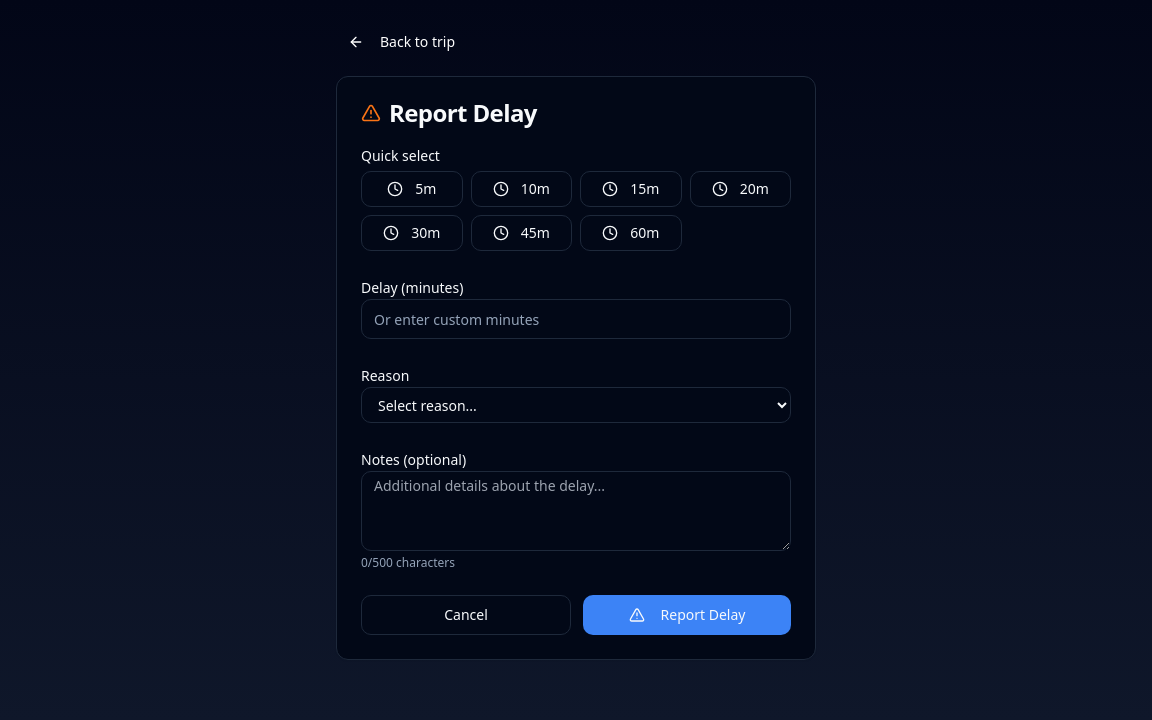
Scenario: DriverDelayPage › validation › shows error when submitting without minutes
The width and height of the screenshot is (1152, 720).
Select a reason but no minutes
Select "Traffic" in the dropdown labelled "Reason" at (576, 405), box top-left (361, 387), bottom-right (791, 423)
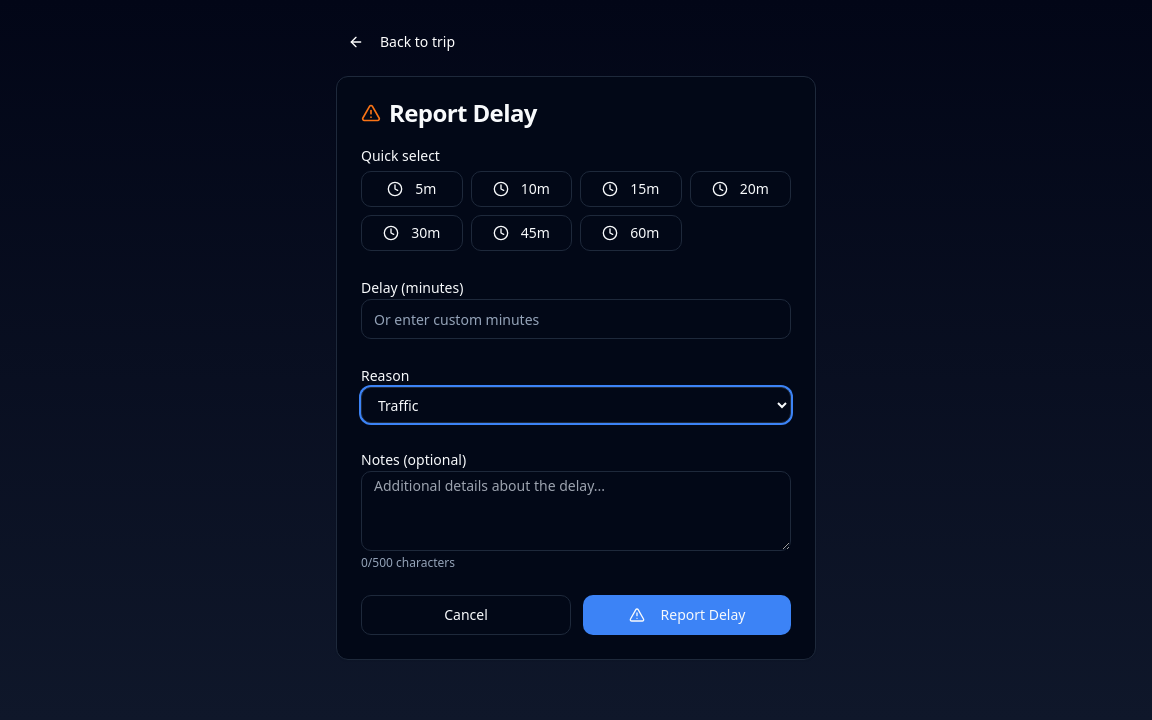
Click the button "Report Delay" at (687, 615), box top-left (583, 595), bottom-right (791, 635)
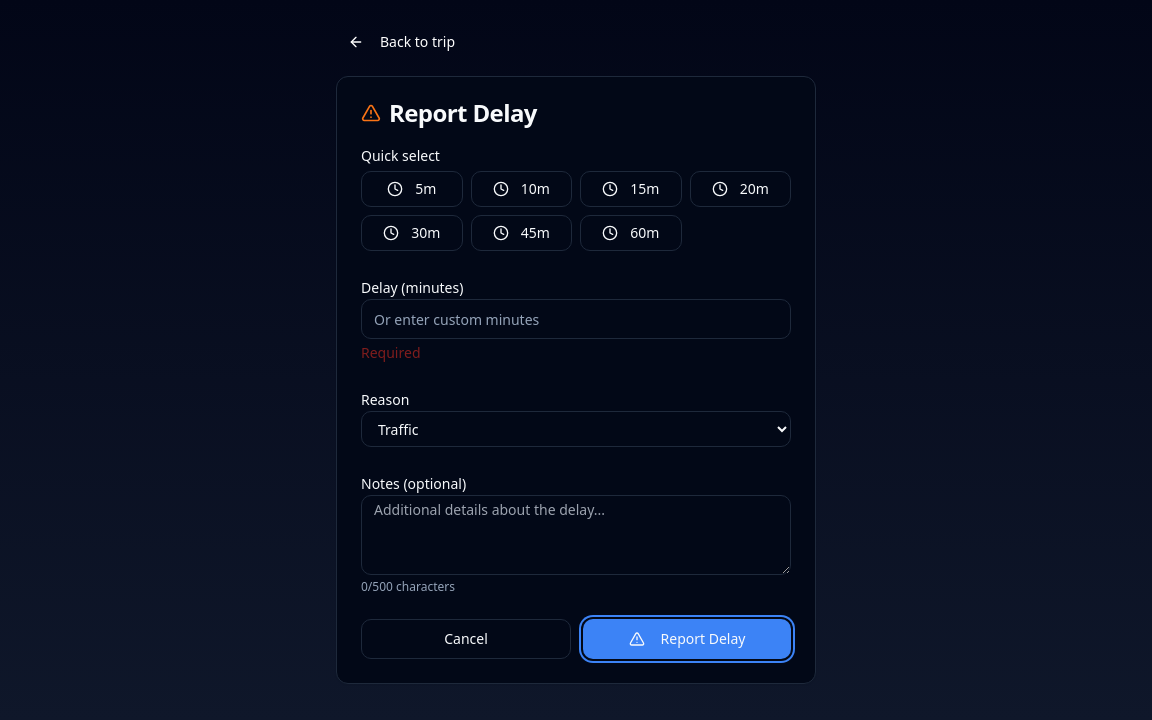
Result: the text "Required" is shown at top-left (361, 343), bottom-right (420, 362)
